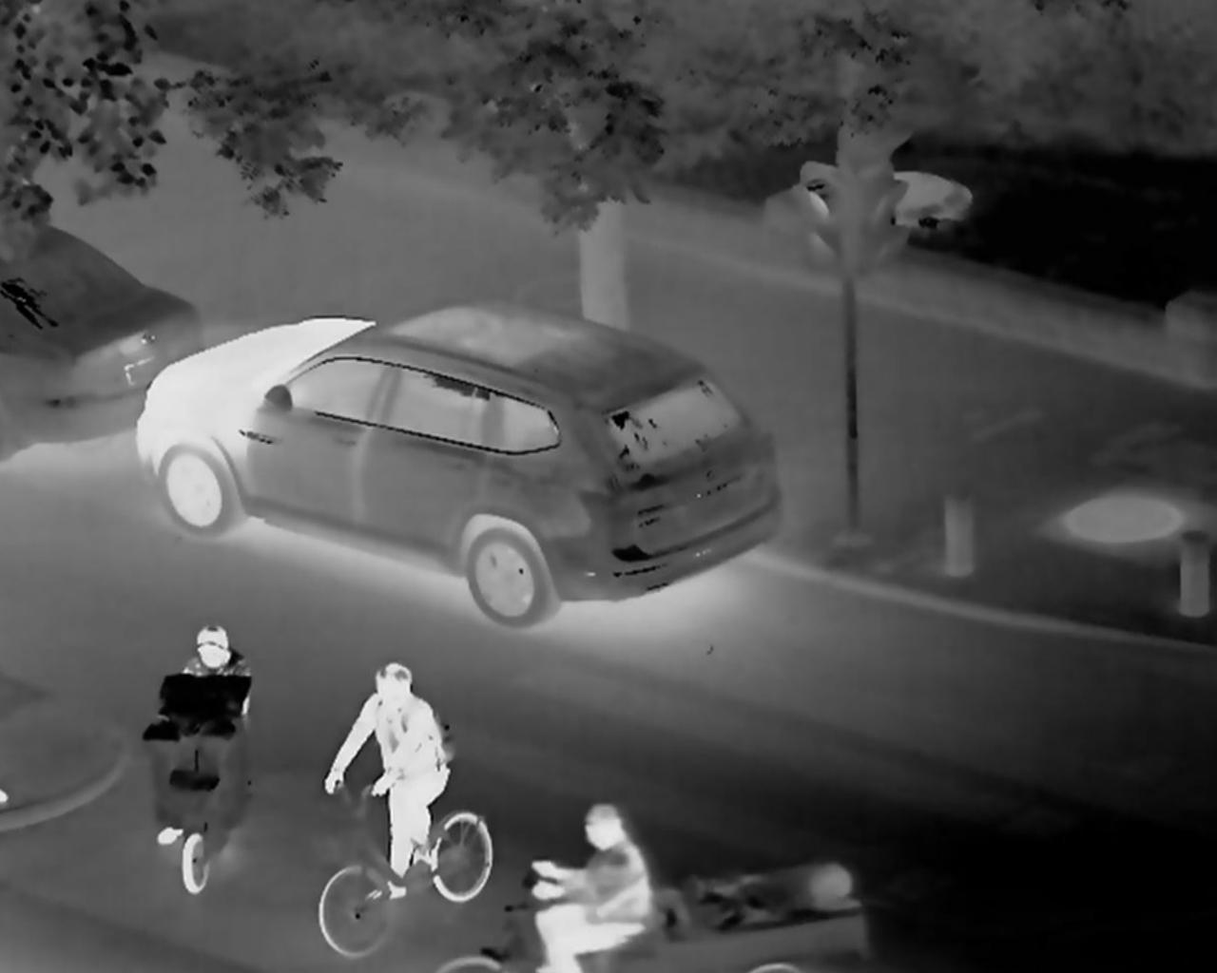person: (316, 656, 446, 900), (522, 792, 651, 973), (148, 621, 251, 845)
